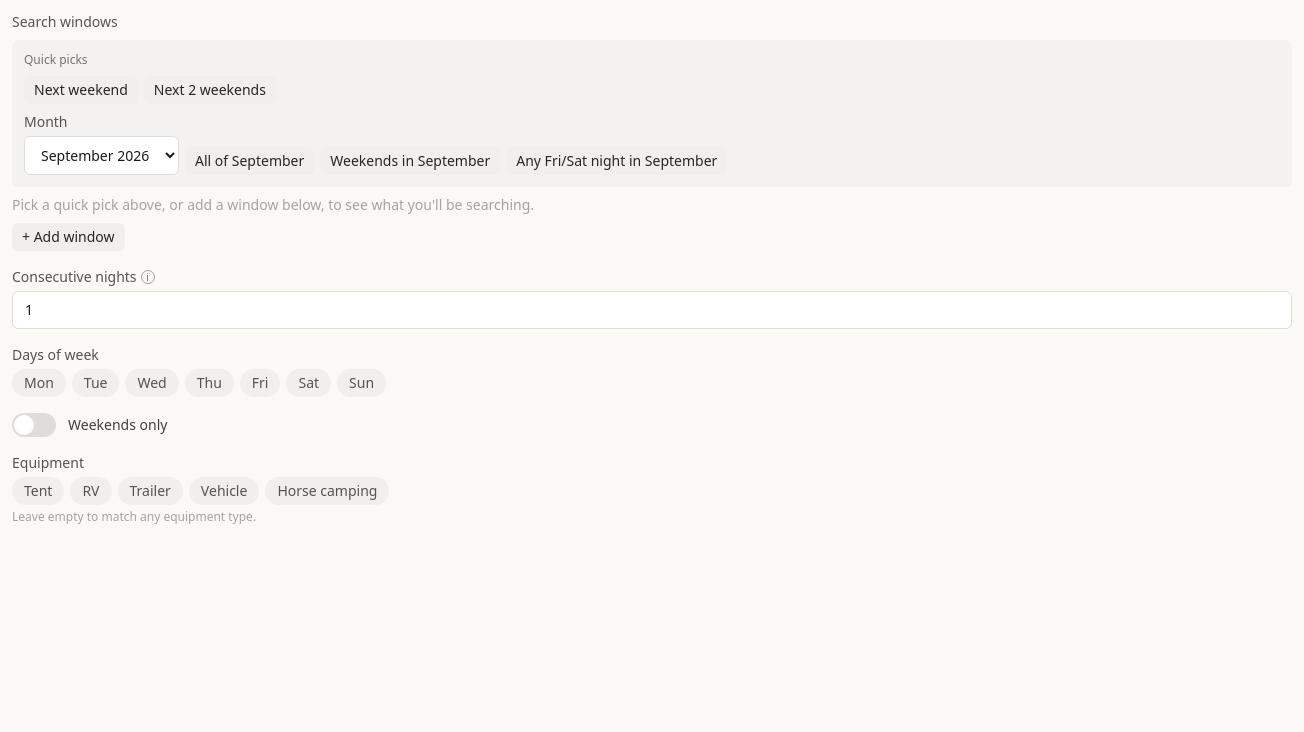
Test case: DatesFiltersFields — quick-pick date templates › turns on weekends-only and two nights for 'Weekends in <month>'
Select "October 2026" in the dropdown labelled "Month": {"x": 102, "y": 156} [24,136,179,175]
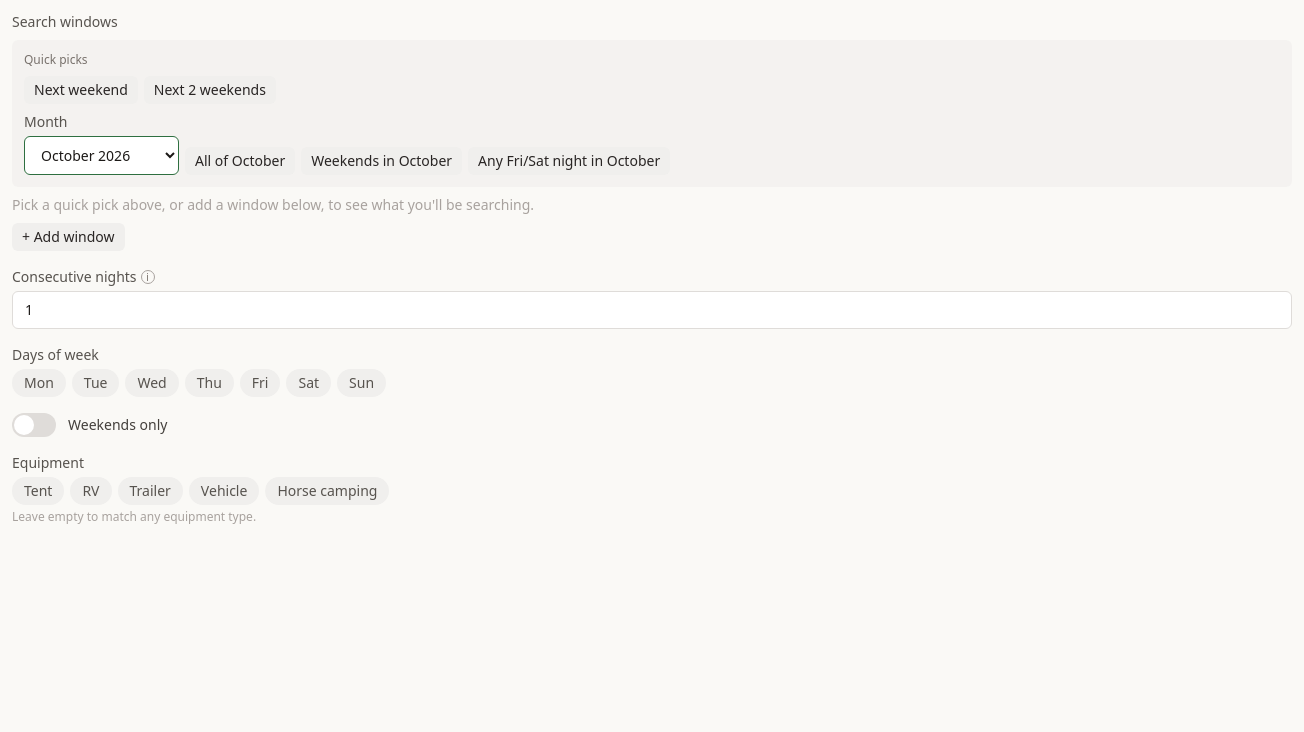
Click the button "Weekends in October": {"x": 382, "y": 161} [301,147,462,175]
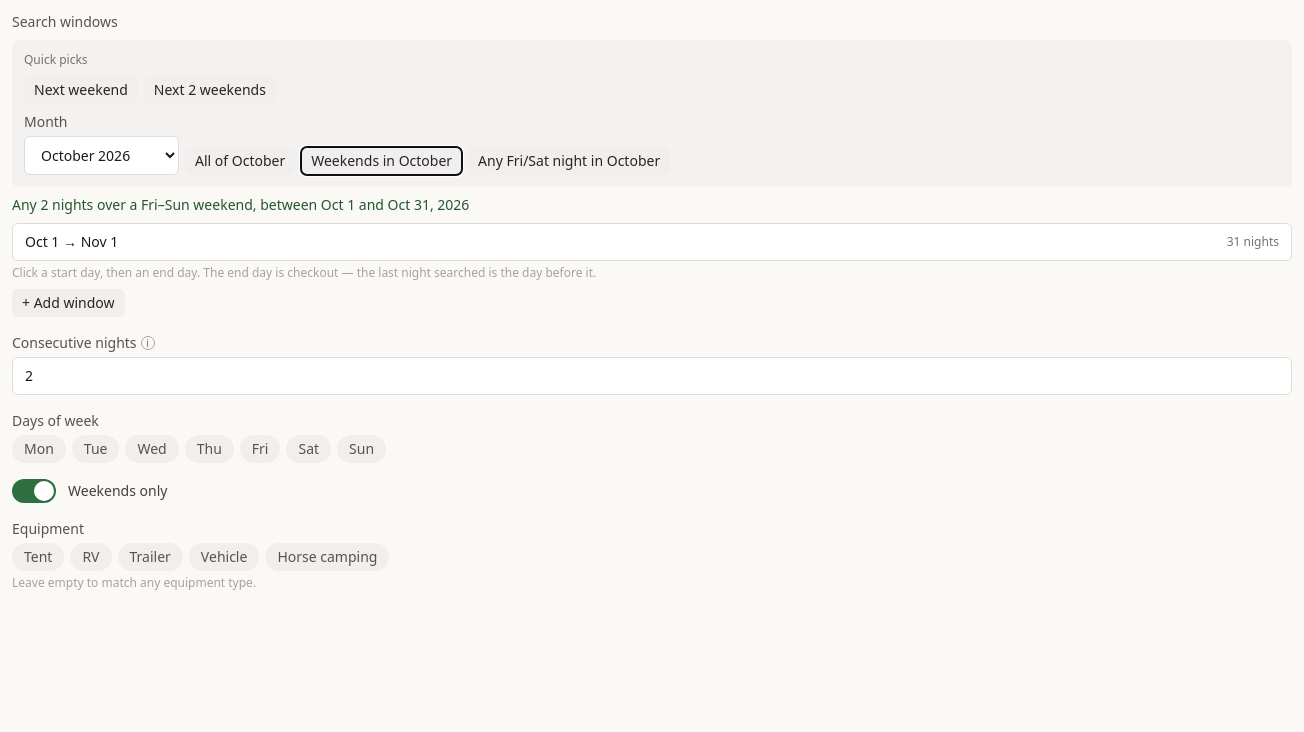
Check: the number field labelled "Consecutive nights i" holds "2", box [12,357,1292,395]
